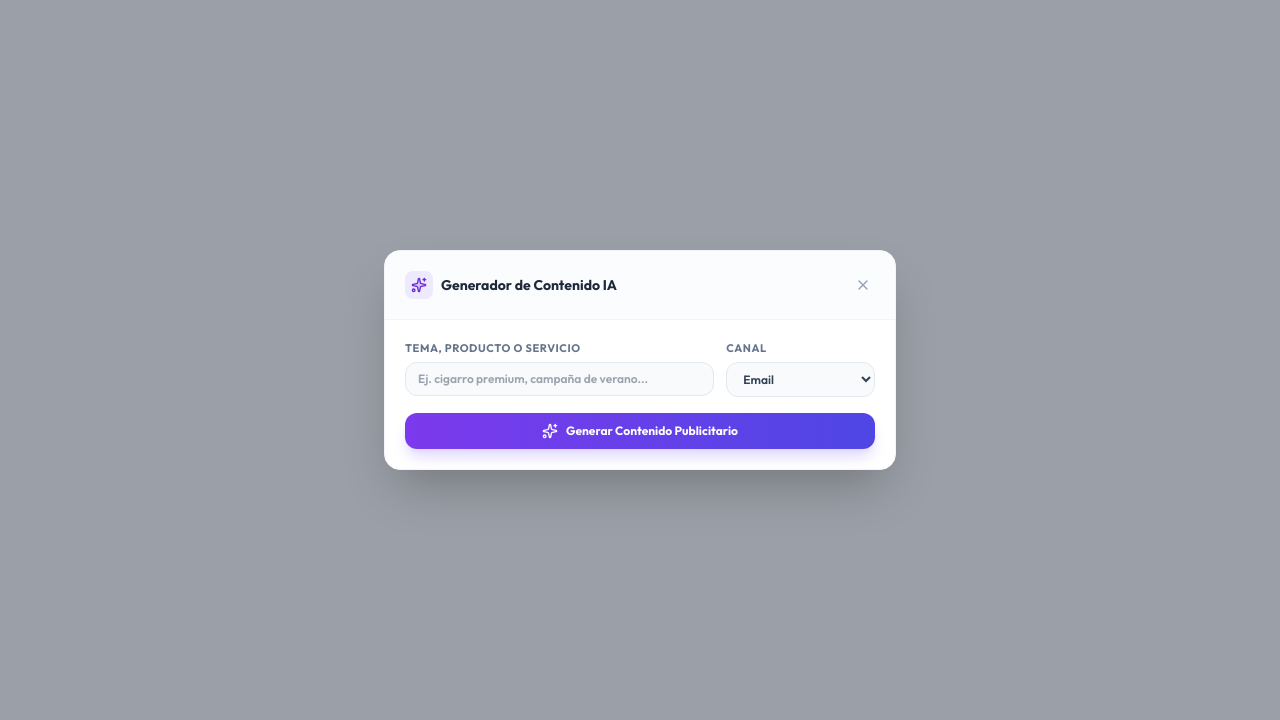
Test: QA - Componente AIModal (Generación de Contenido) › Debe manejar errores de la API correctamente (Mock Fetch)
Configurar input
Type "Zapatos de verano" into the field with placeholder "Ej. cigarro premium, campaña de verano..." at x=560, y=379, box [405,362,714,396]
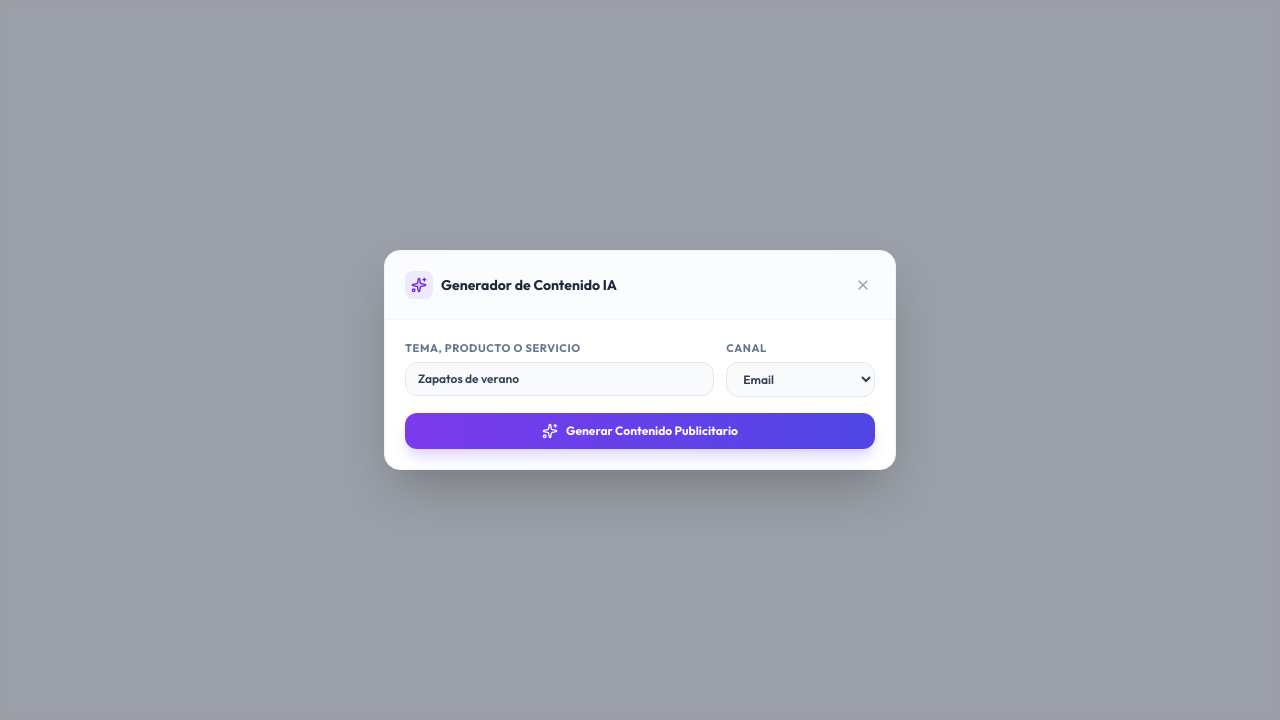
Click the button "Generar Contenido Publicitario" at x=640, y=431, box [405,413,875,449]
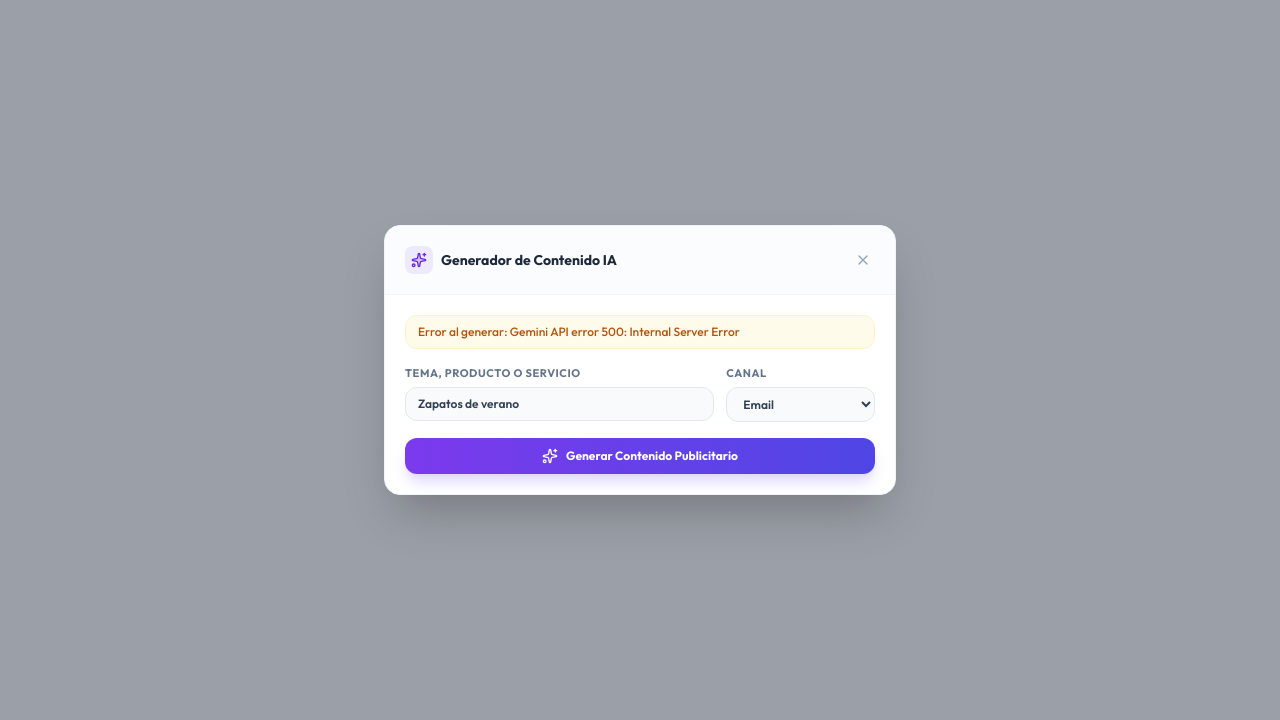
Check: the text "Gemini API error 500" is shown, box [418,324,740,339]
